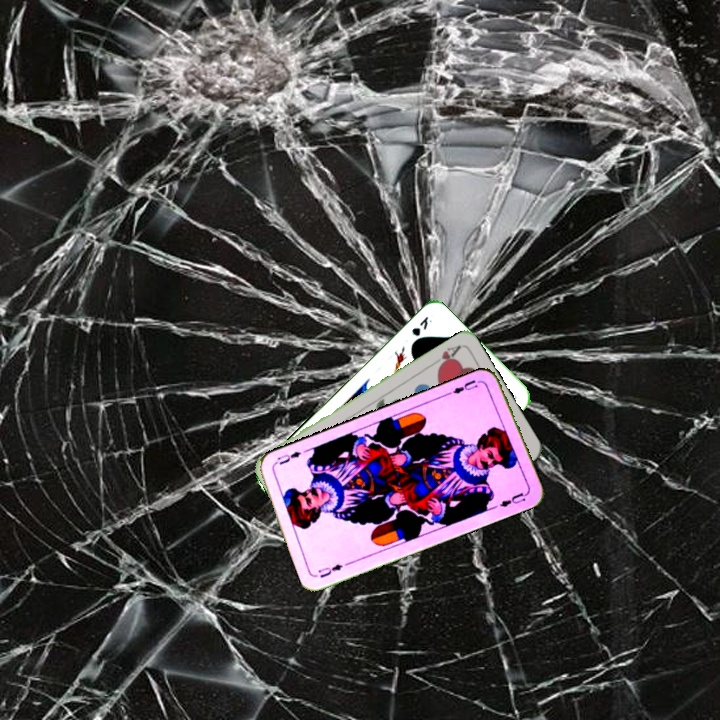EU: (445, 376, 484, 397), (314, 560, 345, 580)
GK: (407, 312, 434, 339)
HA: (427, 341, 464, 372)
